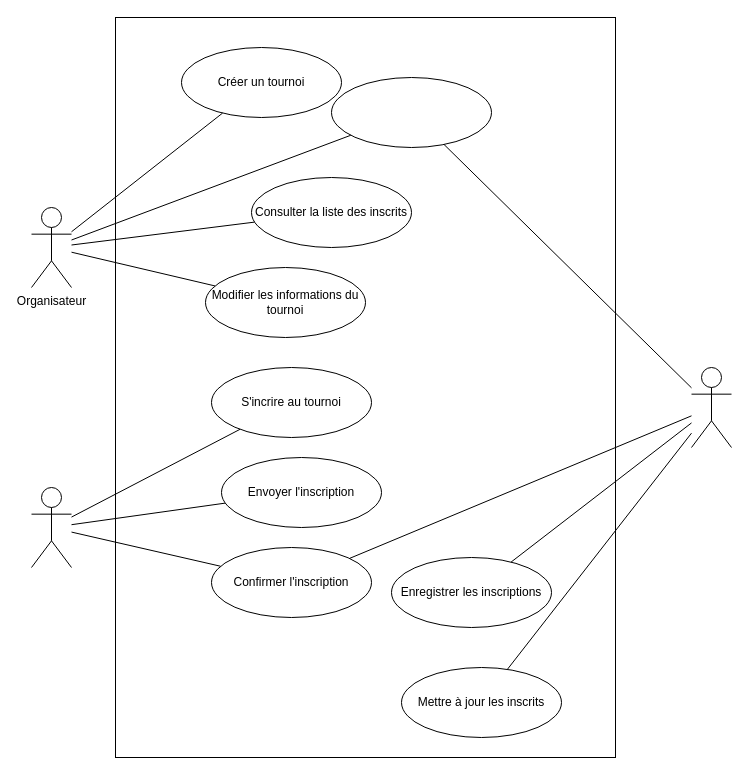
This 752x775 diagram has some shape labels left out. Here are the shapes that lost their labels. From the top down, the box of each, then its label:
(330, 76, 492, 148): Générer un formulaire
(690, 366, 732, 448): Système
(30, 486, 72, 568): Joueur
